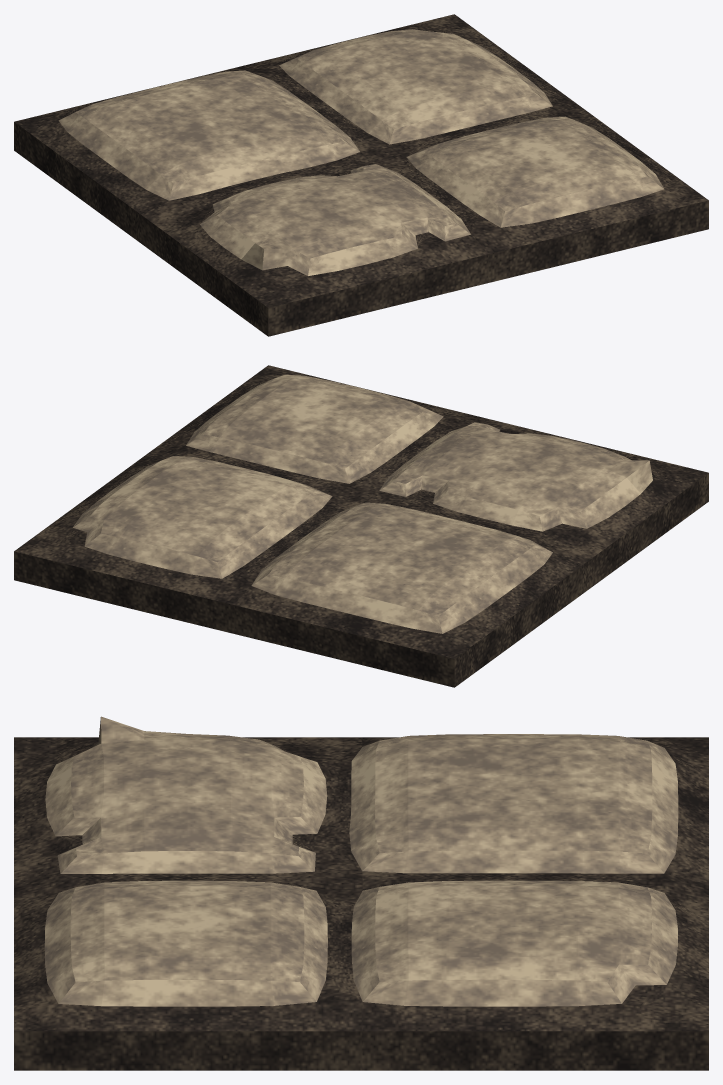
Rendered from floor.glb.
3 renders of one model, top to bottom at view 1: azimuth 30°, elevation 25°; view 2: azimuth 150°, elevation 25°; view 3: azimuth 270°, elevation 25°, orthographic. The views are drawn at different scales.
Parts seen in each view (by area): view 1: crypt_floor; view 2: crypt_floor; view 3: crypt_floor.
Boxes of the visible parts, box(x1,y1,x2,y2) form: crypt_floor: box(14, 14, 708, 336); crypt_floor: box(14, 365, 708, 687); crypt_floor: box(14, 716, 708, 1070).
Bounding box in the file's own units: 1 × 0.125 × 1.
Materials: 1 (1 with a texture image).
